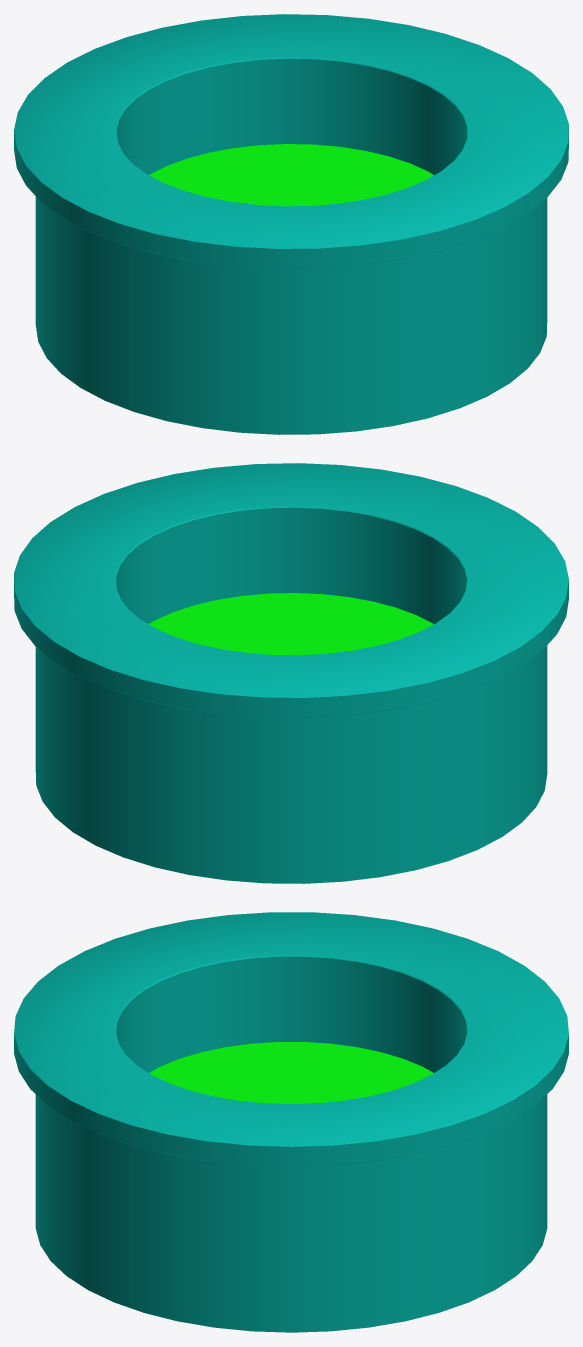
File: toybox_firepit_bricks_mesh.fbx
3 views of the same model, one above another, from view 1: azimuth 30°, elevation 25°; view 2: azimuth 150°, elevation 25°; view 3: azimuth 270°, elevation 25° (orthographic).
Visible parts, largest first — view 1: Stone, Coals; view 2: Stone, Coals; view 3: Stone, Coals.
Boxes of the visible parts, x1,y1,x2,y2 form: Stone: (14,14,568,434); Coals: (149,144,433,206); Stone: (14,463,568,883); Coals: (149,593,433,655); Stone: (14,912,568,1332); Coals: (149,1042,433,1103).
Size of the model in its own units: 134 by 51.97 by 134.
